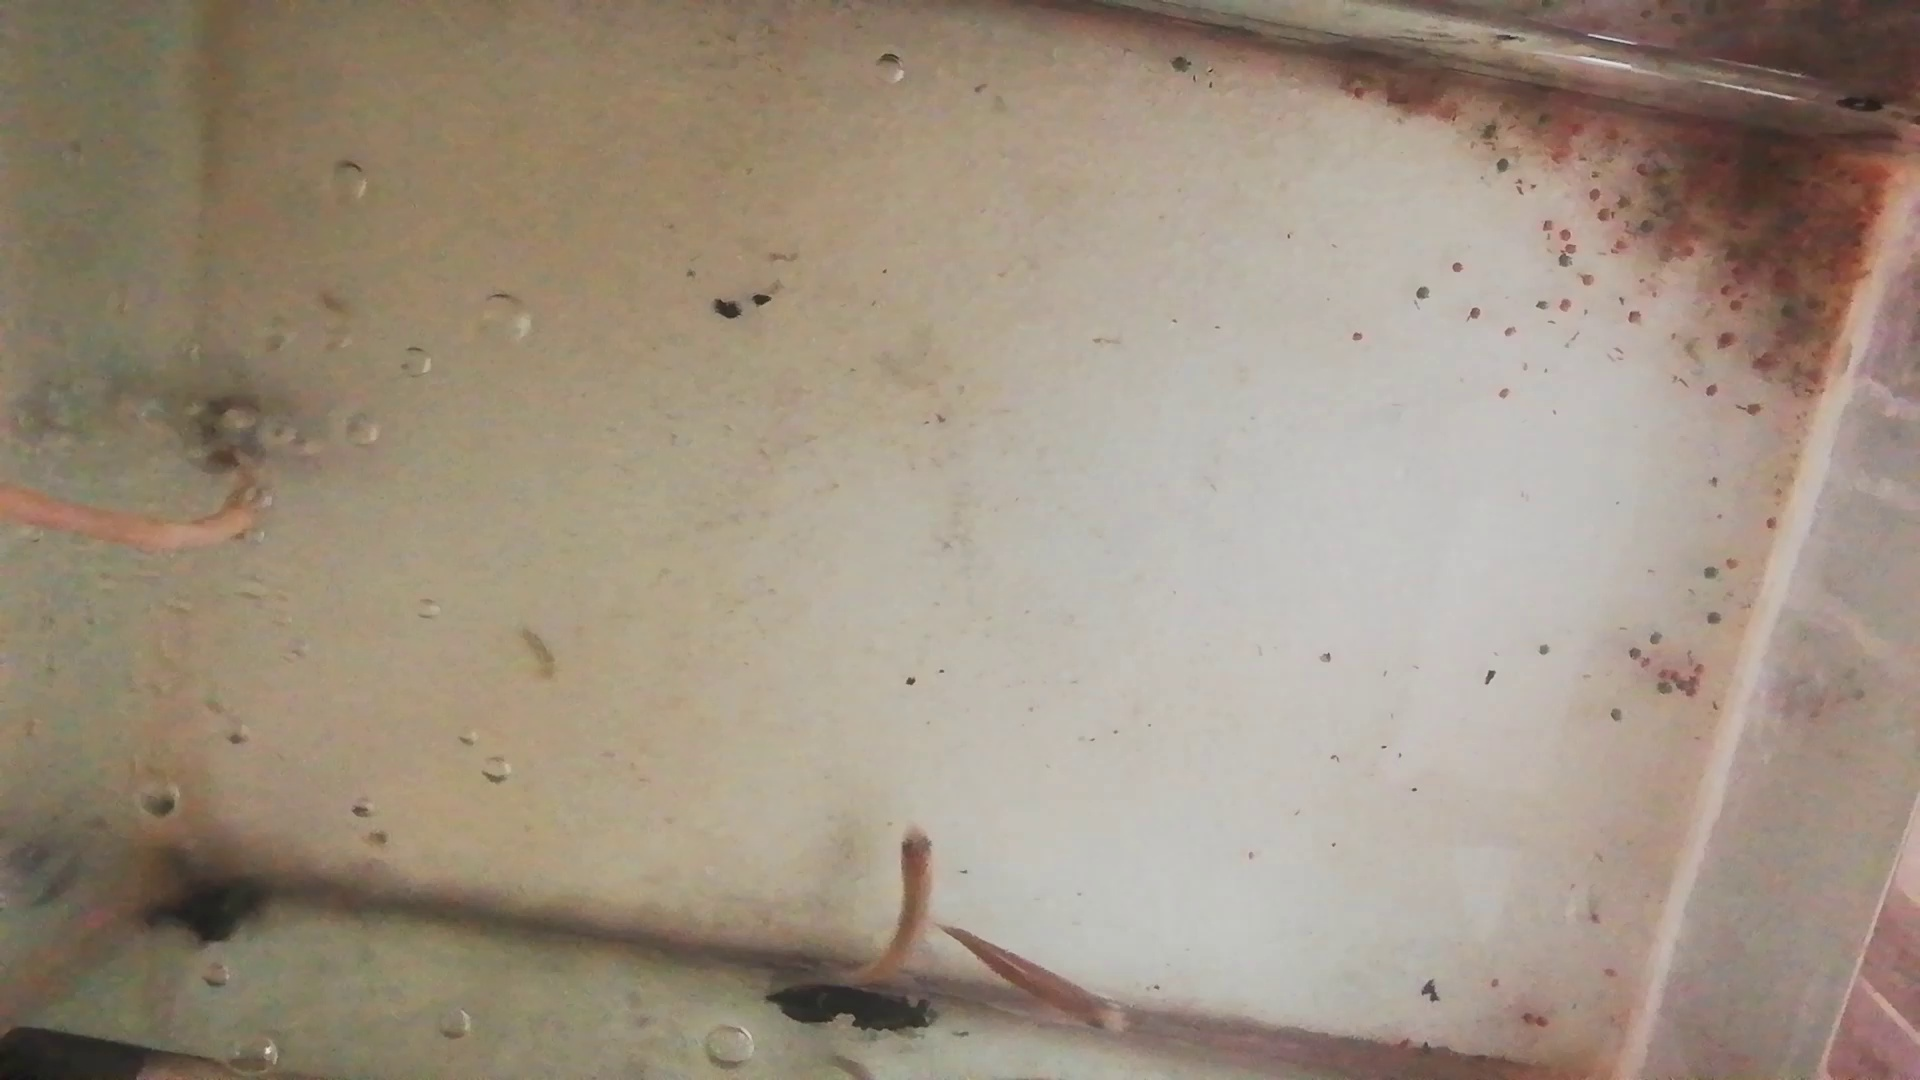fish: (934, 915, 1125, 1033), (866, 822, 938, 993)
